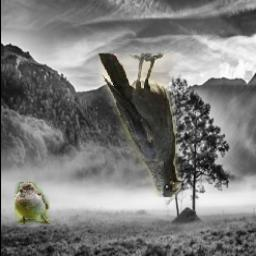Crow: (98, 53, 181, 197)
Sparrow: (15, 183, 50, 225)
